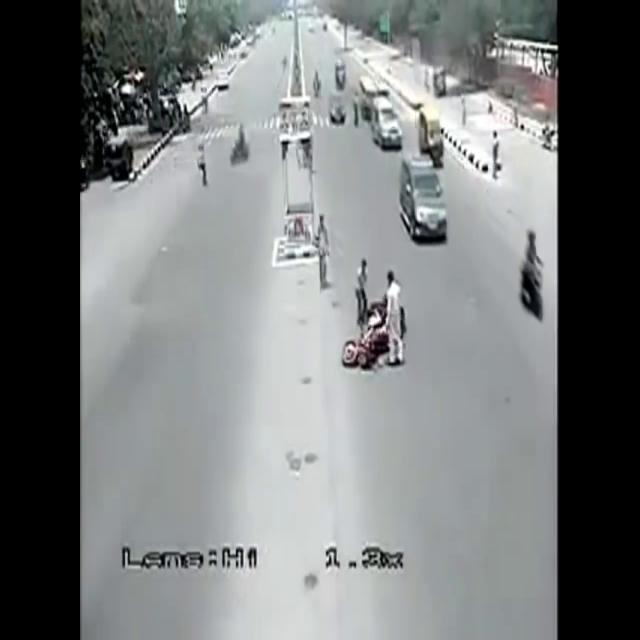normal: (315, 38, 467, 257), (497, 212, 572, 338)
single accident: (322, 245, 432, 385)
